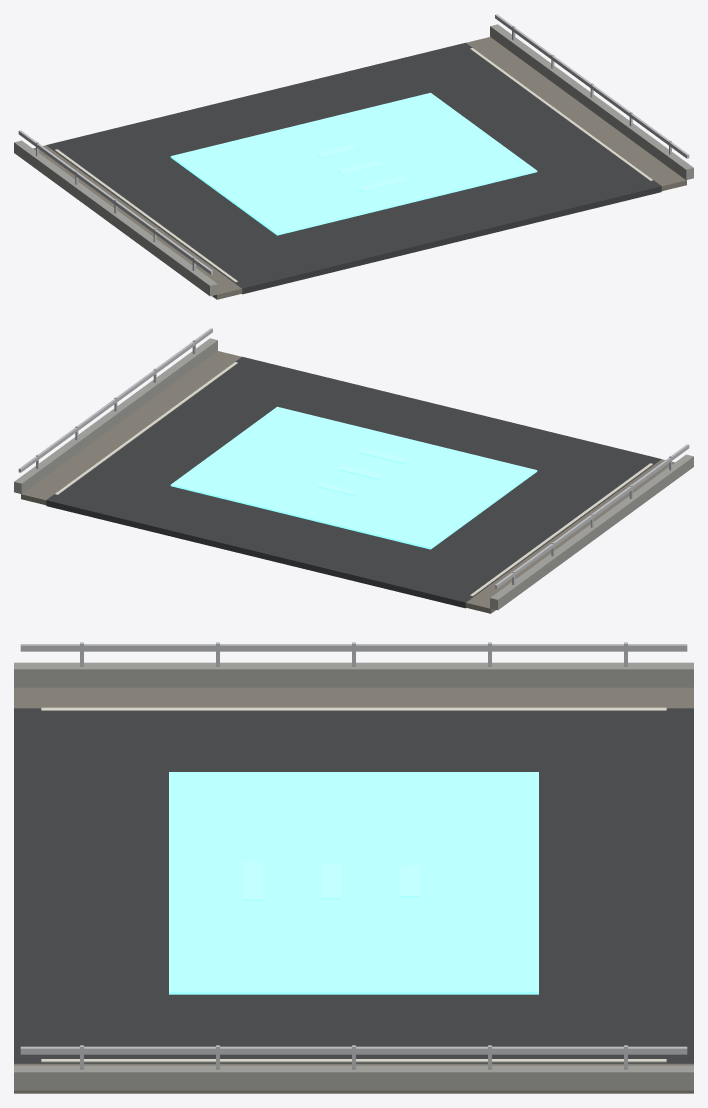
File: track_boost_straight_v1.glb
3 renders of one model, top to bottom at view 1: azimuth 30°, elevation 25°; view 2: azimuth 150°, elevation 25°; view 3: azimuth 270°, elevation 25°, orthographic. The views are drawn at different scales.
Parts seen in each view (by area): view 1: ROAD_01, BOOST_PAD, RAILBASE, SHOULDER_01_2, RAILMETAL, SHOULDER_01_1, EDGE_01_L, EDGE_01_R; view 2: ROAD_01, BOOST_PAD, RAILBASE, SHOULDER_01_2, RAILMETAL, SHOULDER_01_1, EDGE_01_L, EDGE_01_R; view 3: ROAD_01, BOOST_PAD, RAILBASE, SHOULDER_01_1, RAILMETAL, SHOULDER_01_2, EDGE_01_L, EDGE_01_R, BOOST_CHEVRON_0, BOOST_CHEVRON_1.
Part boxes in pixels (x1=…): ROAD_01: x1=46, y1=42, x2=661, y2=294; BOOST_PAD: x1=170, y1=92, x2=537, y2=235; RAILBASE: x1=14, y1=24, x2=693, y2=296; SHOULDER_01_2: x1=466, y1=37, x2=686, y2=191; RAILMETAL: x1=18, y1=14, x2=689, y2=274; SHOULDER_01_1: x1=33, y1=145, x2=242, y2=299; EDGE_01_L: x1=55, y1=149, x2=237, y2=282; EDGE_01_R: x1=470, y1=48, x2=652, y2=180; ROAD_01: x1=46, y1=356, x2=661, y2=608; BOOST_PAD: x1=170, y1=406, x2=537, y2=549; RAILBASE: x1=14, y1=338, x2=693, y2=610; SHOULDER_01_2: x1=21, y1=351, x2=241, y2=505; RAILMETAL: x1=18, y1=328, x2=689, y2=588; SHOULDER_01_1: x1=465, y1=459, x2=674, y2=613; EDGE_01_L: x1=470, y1=463, x2=652, y2=596; EDGE_01_R: x1=55, y1=362, x2=237, y2=494; ROAD_01: x1=14, y1=708, x2=693, y2=1063; BOOST_PAD: x1=169, y1=772, x2=538, y2=994; RAILBASE: x1=14, y1=662, x2=693, y2=1090; SHOULDER_01_1: x1=14, y1=687, x2=693, y2=708; RAILMETAL: x1=20, y1=644, x2=687, y2=1054; SHOULDER_01_2: x1=14, y1=1063, x2=693, y2=1093; EDGE_01_L: x1=41, y1=707, x2=666, y2=710; EDGE_01_R: x1=41, y1=1059, x2=666, y2=1062; BOOST_CHEVRON_0: x1=243, y1=861, x2=262, y2=900; BOOST_CHEVRON_1: x1=321, y1=863, x2=341, y2=899.
Bounding box in the file's own units: 17.3 × 1.01 × 12.14.
